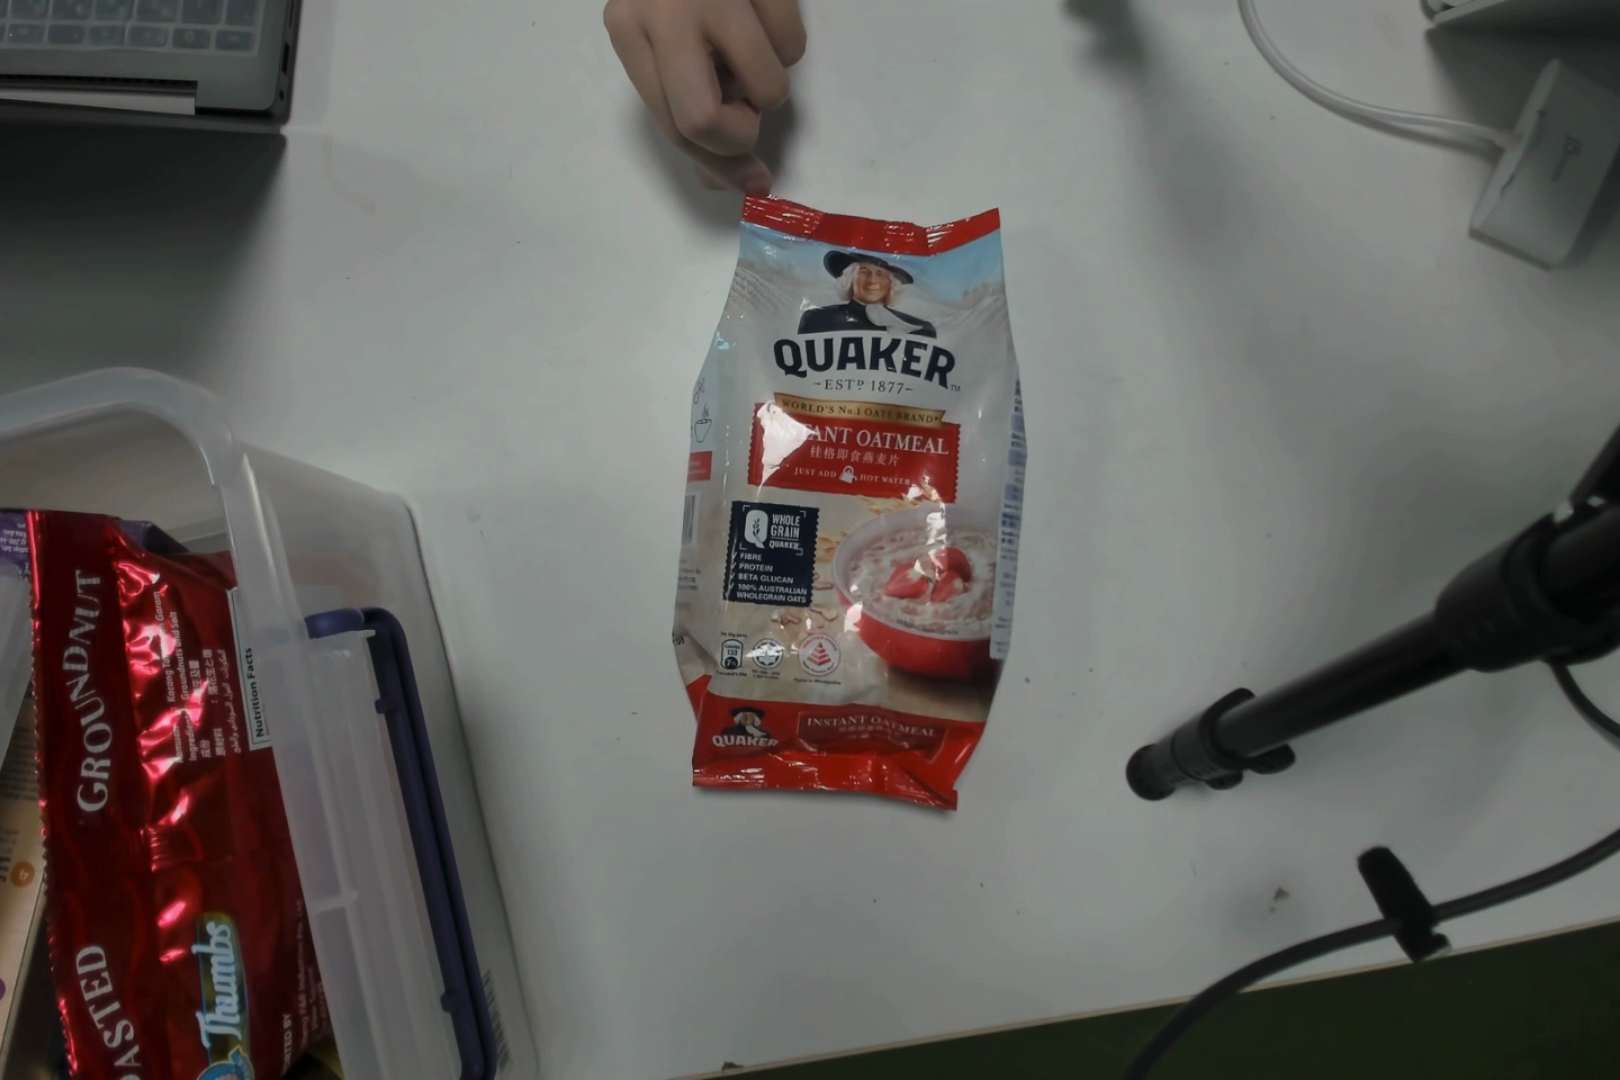RolledOatsInstantOatmeal_400-499g_Halal_Healthy: (693, 215, 1026, 815)
